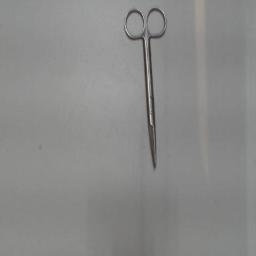Curved Mayo Scissors: (122, 4, 170, 170)
